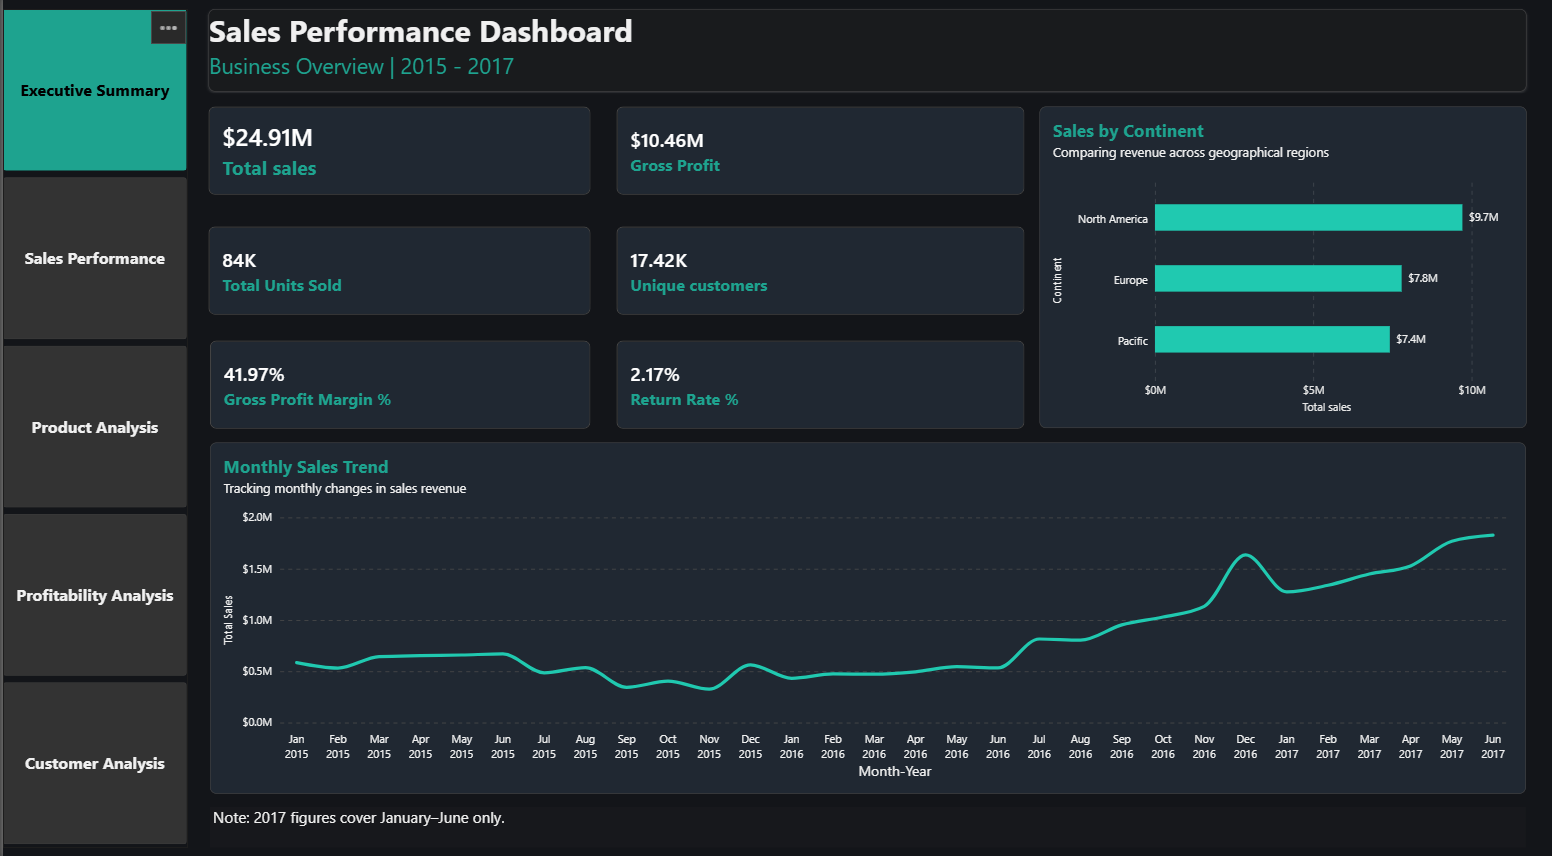

What the dashboard file says about the page in this screenshot:
{"tool":"powerbi","page":{"name":"Executive Summary","canvas":[1920,1080],"ordinal":0},"visuals":[{"type":"cardVisual","fields":{"Data":["Sales.Total sales"]},"box":[254.4,143.1,472.4,109],"z":0},{"type":"cardVisual","fields":{"Data":["Sales.Gross Profit"]},"box":[758.6,143.1,504.2,109],"z":1000},{"type":"cardVisual","fields":{"Data":["Sales.Gross Profit Margin %"]},"box":[256.7,431.5,470.2,109],"z":2000},{"type":"cardVisual","fields":{"Data":["Sales.Unique customers"]},"box":[758.6,290.7,504.2,109],"z":3000},{"type":"cardVisual","fields":{"Data":["Return sales.Return Rate %"]},"box":[758.6,431.5,504.2,109],"z":4000},{"type":"cardVisual","fields":{"Data":["Sales.Total Units Sold"]},"box":[254.4,290.7,472.4,109],"z":5000},{"type":"lineChart","title":"Monthly Sales Trend","fields":{"Category":["Calender.Month-Year"],"Y":["Sales.Total sales"]},"box":[256.7,558.7,1626.3,433.8],"z":6000},{"type":"barChart","title":"Sales by Continent","fields":{"Category":["Territories.Continent"],"Y":["Sales.Total sales"]},"box":[1281,143.1,601.9,397.5],"z":7000},{"type":"pageNavigator","box":[0,22.7,227.1,1035.7],"z":8000},{"type":"textbox","title":"Sales Performance Dashboard","box":[254.4,22.7,1628.5,102.2],"z":9000},{"type":"textbox","box":[256.7,1008.5,1626.3,50],"z":9001}]}

Visuals, with their boxes in screenshot pixels (x1, y1, x2, y2), scaled from the page's 1920x1080 canvas onto the 1552x856 screenshot:
cardVisual - Sales.Total sales: box=[206, 113, 587, 200]
cardVisual - Sales.Gross Profit: box=[613, 113, 1021, 200]
cardVisual - Sales.Gross Profit Margin %: box=[207, 342, 588, 428]
cardVisual - Sales.Unique customers: box=[613, 230, 1021, 317]
cardVisual - Return sales.Return Rate %: box=[613, 342, 1021, 428]
cardVisual - Sales.Total Units Sold: box=[206, 230, 587, 317]
"Monthly Sales Trend" lineChart: box=[207, 443, 1522, 787]
"Sales by Continent" barChart: box=[1035, 113, 1522, 428]
pageNavigator: box=[0, 18, 184, 839]
"Sales Performance Dashboard" textbox: box=[206, 18, 1522, 99]
textbox: box=[207, 799, 1522, 839]
